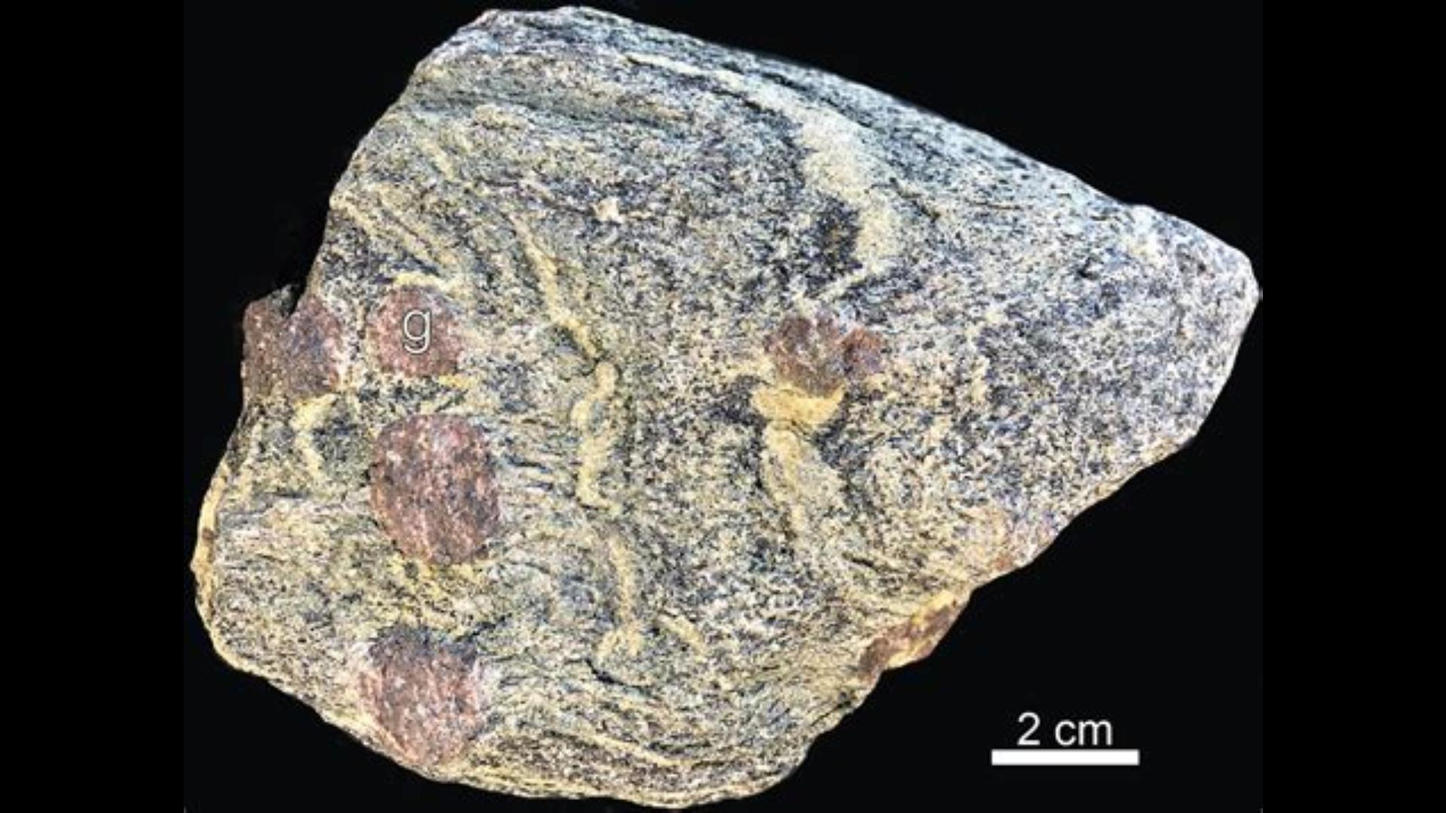rock: (192, 9, 1252, 802)
